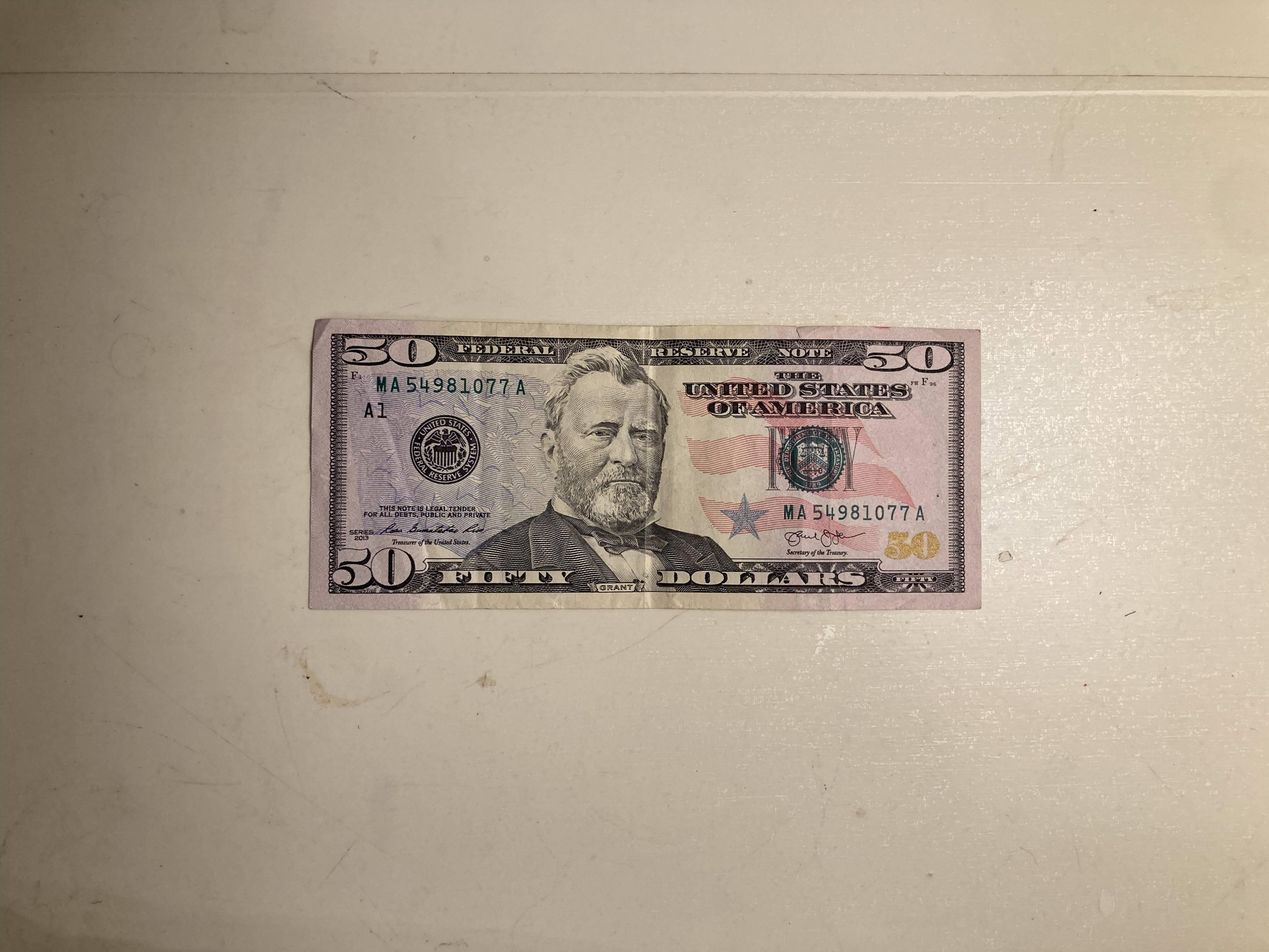fifty-front: (307, 319, 984, 611)
